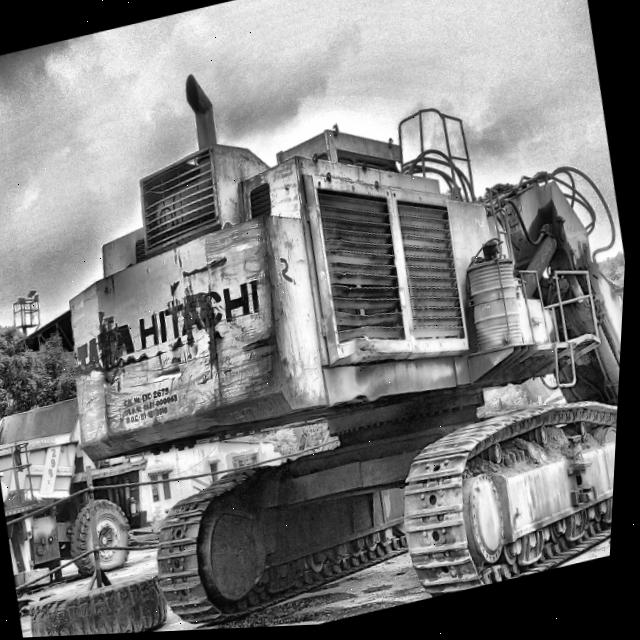excavator: (63, 66, 627, 632)
